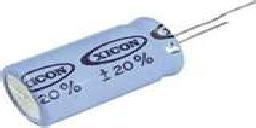Electrolytic-Capacitor: (2, 11, 248, 127)
